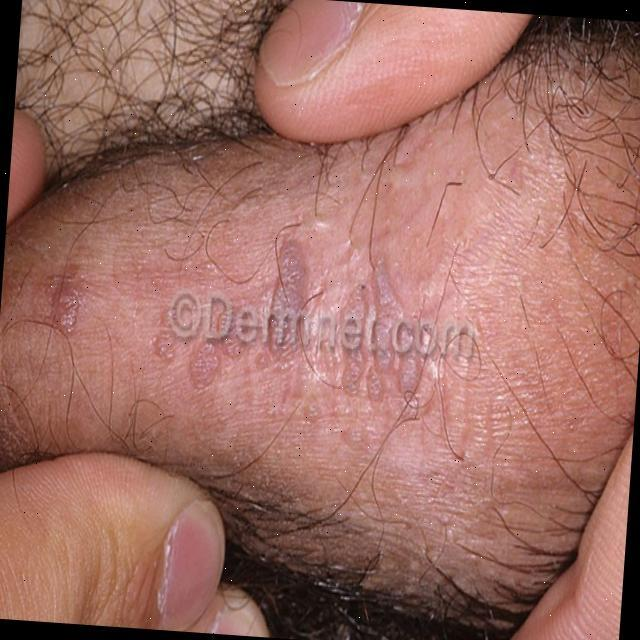Shingles: (31, 238, 424, 420)
